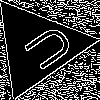U: (13, 21, 77, 79)
